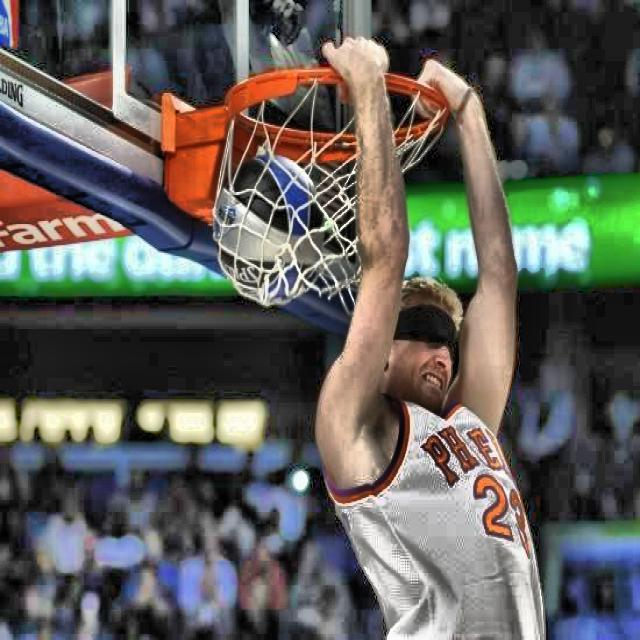rim: (222, 68, 449, 302)
